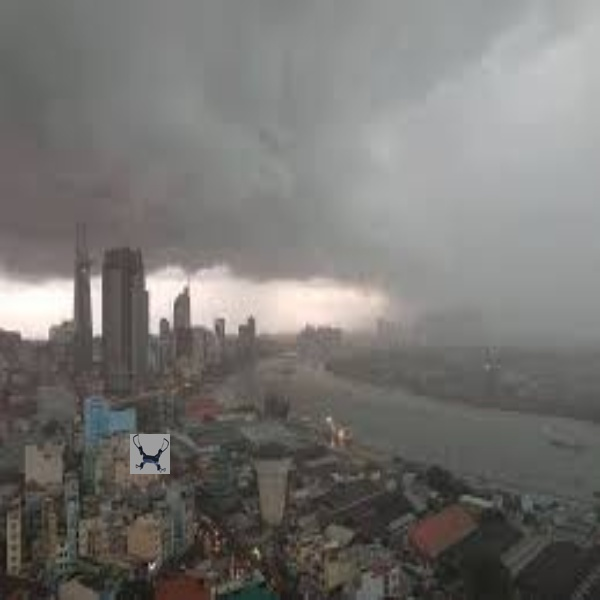drone: (130, 432, 169, 475)
